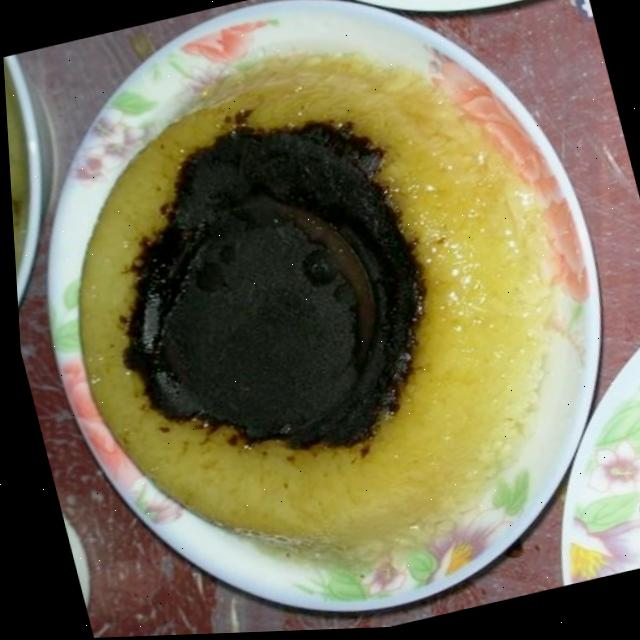米饭主食: (1, 1, 603, 638)
